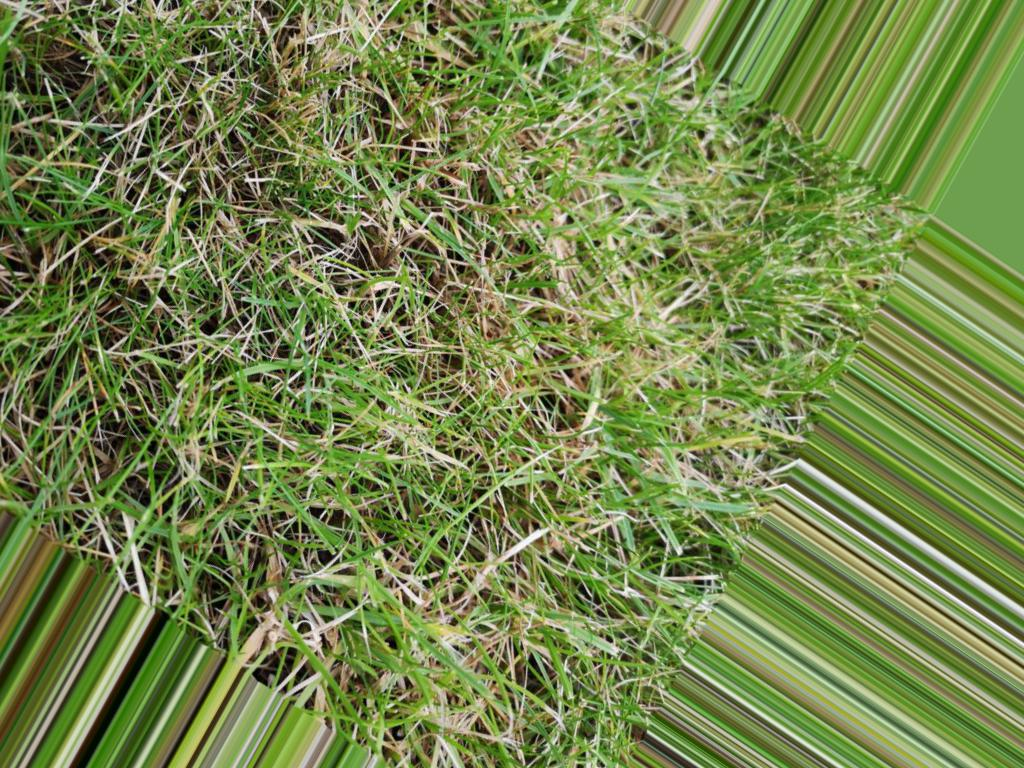patch: (278, 228, 521, 368), (375, 406, 612, 545), (141, 386, 336, 532), (576, 208, 725, 374), (632, 451, 744, 552)
